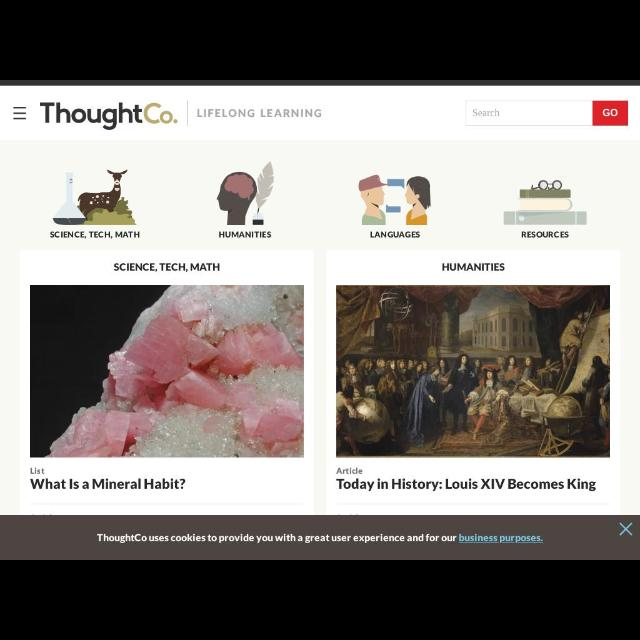icon: (12, 105, 30, 124)
iframe: (3, 515, 639, 557)
image: (32, 287, 304, 457), (337, 287, 608, 457), (41, 101, 178, 133), (58, 172, 138, 225), (503, 180, 587, 226), (358, 176, 430, 226), (219, 162, 275, 225)
input: (466, 99, 630, 127)
text: (338, 478, 594, 492), (32, 479, 186, 489), (196, 108, 322, 118), (115, 262, 222, 272), (50, 232, 140, 238), (220, 230, 272, 240), (370, 231, 420, 239), (442, 264, 503, 270), (520, 231, 570, 237), (473, 108, 501, 118), (337, 468, 363, 474), (30, 468, 46, 474)
textbutton: (594, 103, 628, 125)
toolbar: (1, 86, 637, 142)
